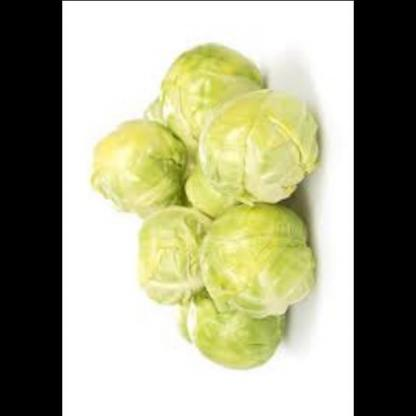brus capusta: (91, 39, 324, 377)
